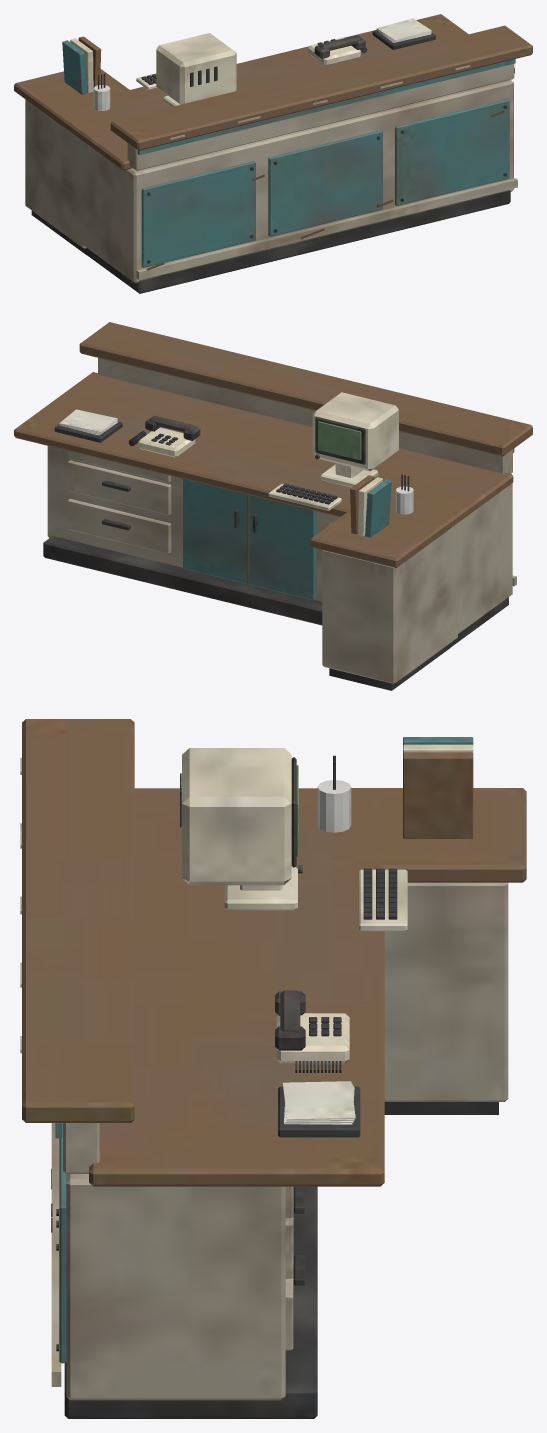
File: HE12_nurses_station.glb
3 views of the same model, one above another, from view 1: azimuth 30°, elevation 25°; view 2: azimuth 150°, elevation 25°; view 3: azimuth 270°, elevation 25° (orthographic). The views are drawn at different scales.
Parts seen in each view (by area): view 1: Recessed dark plinth; view 2: Recessed dark plinth; view 3: Recessed dark plinth.
Boxes of the visible parts, x1,y1,x2,y2 form: Recessed dark plinth: [14, 14, 532, 293]; Recessed dark plinth: [14, 322, 532, 690]; Recessed dark plinth: [20, 719, 526, 1418].
Size of the model in its own units: 3 by 1.38 by 1.66.
11 materials, 11 textured.
